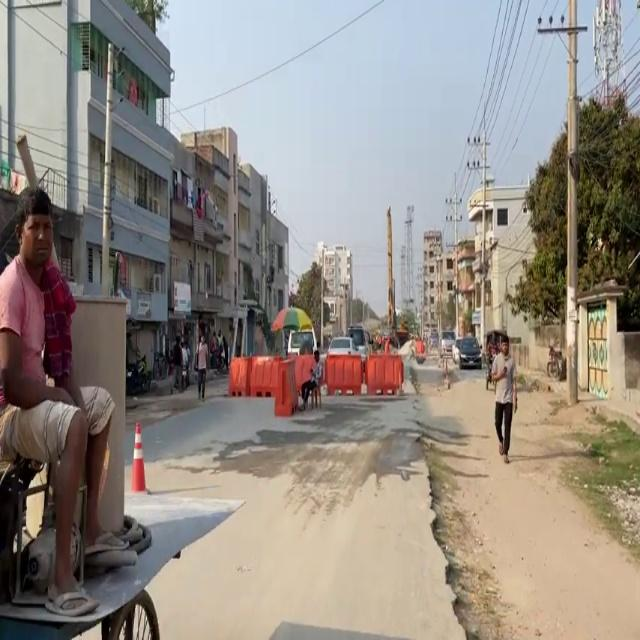Construction-barrier: (0, 489, 245, 639), (401, 345, 477, 638)
Fallen-tree: (125, 352, 151, 395), (546, 344, 564, 379)
Garbage: (227, 303, 321, 415), (365, 353, 403, 395), (324, 353, 362, 395)
Garbage-bin: (0, 185, 116, 616), (489, 335, 518, 459)
Light-pole: (564, 0, 579, 406), (99, 43, 114, 295)
Pothole: (408, 344, 639, 639)
